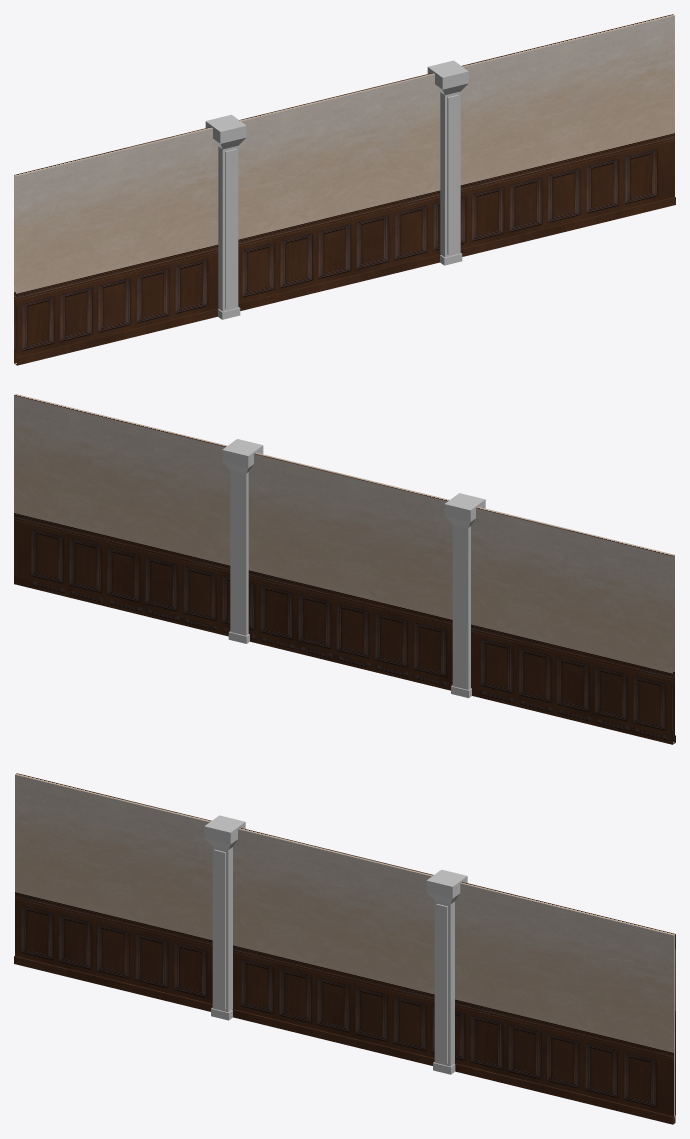
Rendered from Wall 2.FBX.
3 views of the same model, one above another, from view 1: azimuth 30°, elevation 25°; view 2: azimuth 150°, elevation 25°; view 3: azimuth 330°, elevation 25° (orthographic).
Visible parts, largest first — view 1: wall 2; view 2: wall 2; view 3: wall 2.
Part boxes in pixels (bbox=[...]): wall 2: bbox=[14, 14, 675, 365]; wall 2: bbox=[14, 394, 675, 744]; wall 2: bbox=[14, 773, 675, 1124].
Size of the model in its own units: 17036 by 4707 by 671.
